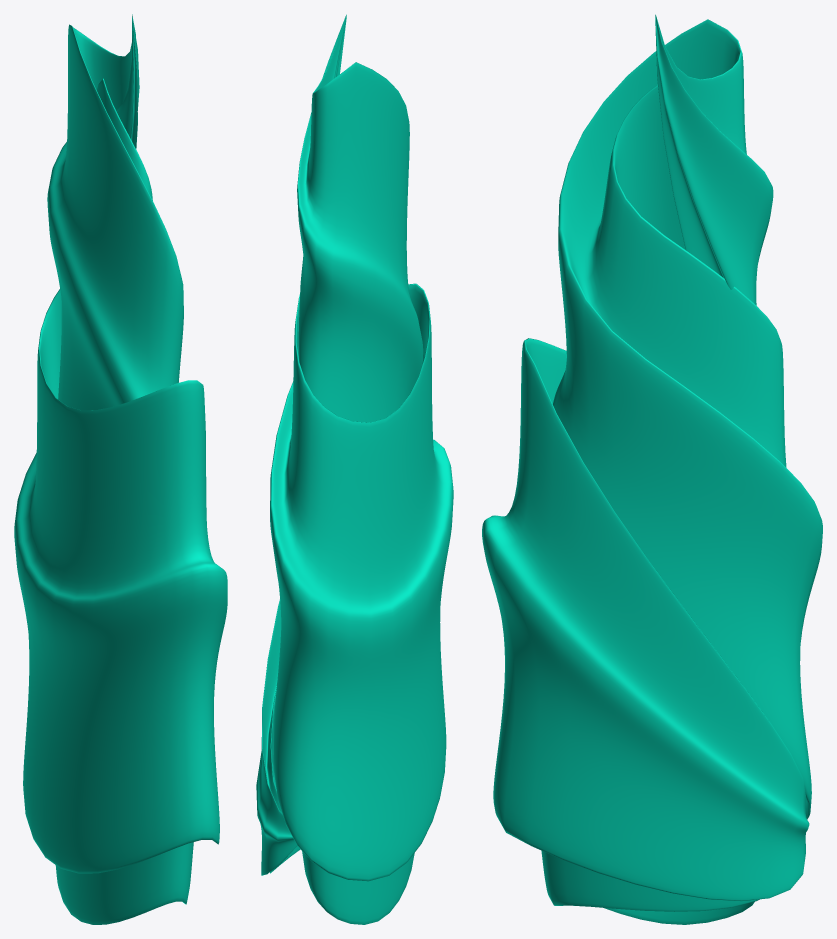
Rendered from Cream1.fbx.
The picture shows the model from 3 angles, left to right: view 1: azimuth 30°, elevation 25°; view 2: azimuth 150°, elevation 25°; view 3: azimuth 270°, elevation 25°; orthographic projection. The views are drawn at different scales.
Visible parts, largest first — view 1: sikilan_krema; view 2: sikilan_krema; view 3: sikilan_krema.
Part boxes in pixels (x1,y1,x2,y2): sikilan_krema: [14, 14, 227, 924]; sikilan_krema: [256, 14, 453, 924]; sikilan_krema: [482, 14, 822, 924].
Size of the model in its own units: 0.0335 by 0.2334 by 0.0772.
